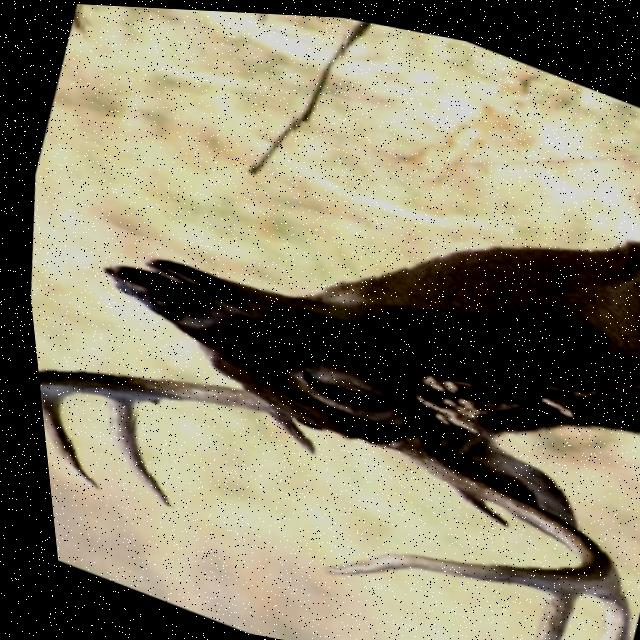L-G1: (261, 410, 308, 454)
L-G2: (97, 395, 163, 508)
L-G3: (32, 391, 92, 491)
R-F: (309, 431, 610, 585)
R-G1: (437, 478, 499, 523)
R-G2: (582, 582, 619, 640)
R-G3: (517, 585, 567, 640)
